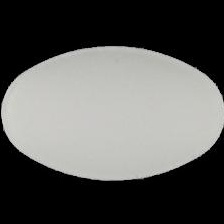55154-5397: (0, 0, 224, 224)
